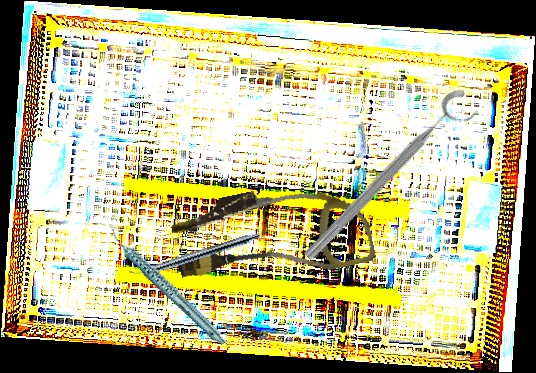Cannula: (167, 168, 377, 301)
Fixation Ring: (298, 85, 483, 274)
Handpiece: (108, 208, 228, 365), (128, 228, 262, 282)
